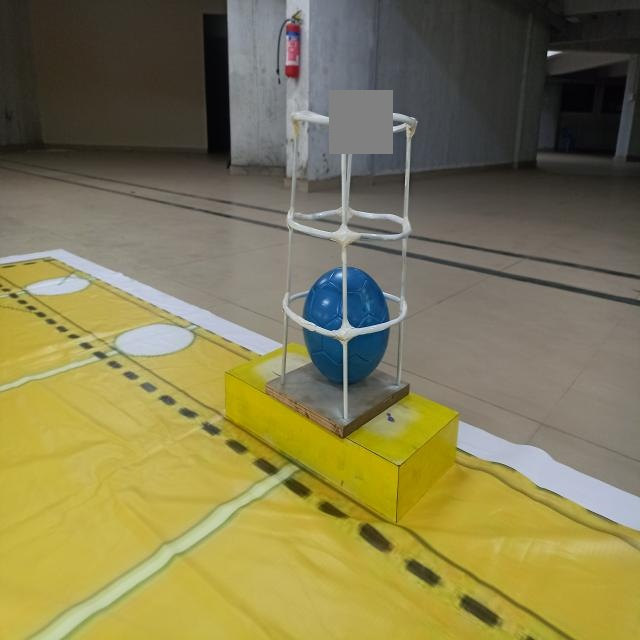blue_ball: (304, 264, 387, 391)
silo: (273, 100, 422, 454)
